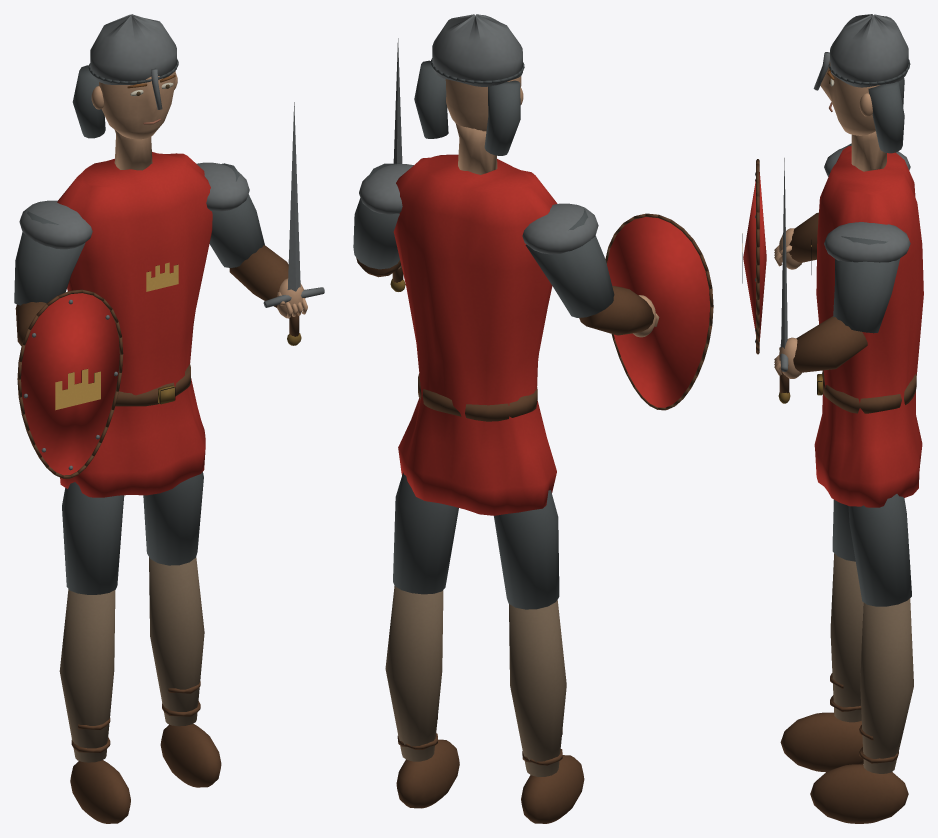
The model's file is SM_EspadachinNatural_A_LOD0.fbx.
3 renders of one model, left to right at view 1: azimuth 30°, elevation 25°; view 2: azimuth 150°, elevation 25°; view 3: azimuth 270°, elevation 25°, orthographic. The views are drawn at different scales.
Visible parts, largest first — view 1: SM_EspadachinNatural_A_LOD0; view 2: SM_EspadachinNatural_A_LOD0; view 3: SM_EspadachinNatural_A_LOD0.
Boxes of the visible parts, left/top/right/bottom form: SM_EspadachinNatural_A_LOD0: left=14, top=14, right=324, bottom=823; SM_EspadachinNatural_A_LOD0: left=353, top=14, right=713, bottom=823; SM_EspadachinNatural_A_LOD0: left=742, top=14, right=923, bottom=823.
Bounding box in the file's own units: 0.1881 × 0.4377 × 0.0922.
Materials: 1 (1 with a texture image).
